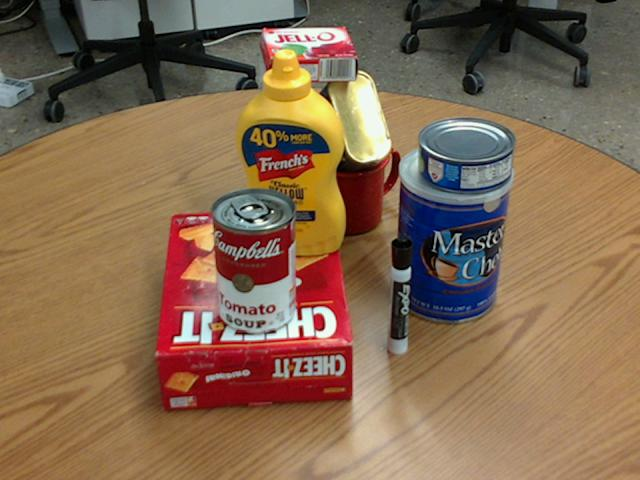cracker_box: (155, 209, 354, 408)
gelatin_box: (261, 28, 356, 82)
large_marker: (386, 235, 412, 354)
master_chef_can: (392, 141, 512, 322)
mug: (305, 132, 402, 233)
mustard_bottle: (233, 49, 343, 254)
potted_meat_can: (302, 72, 391, 188)
sugar_box: (260, 61, 310, 251)
tomato_soup_can: (211, 187, 296, 332)
tuna_fish_can: (417, 117, 515, 192)
